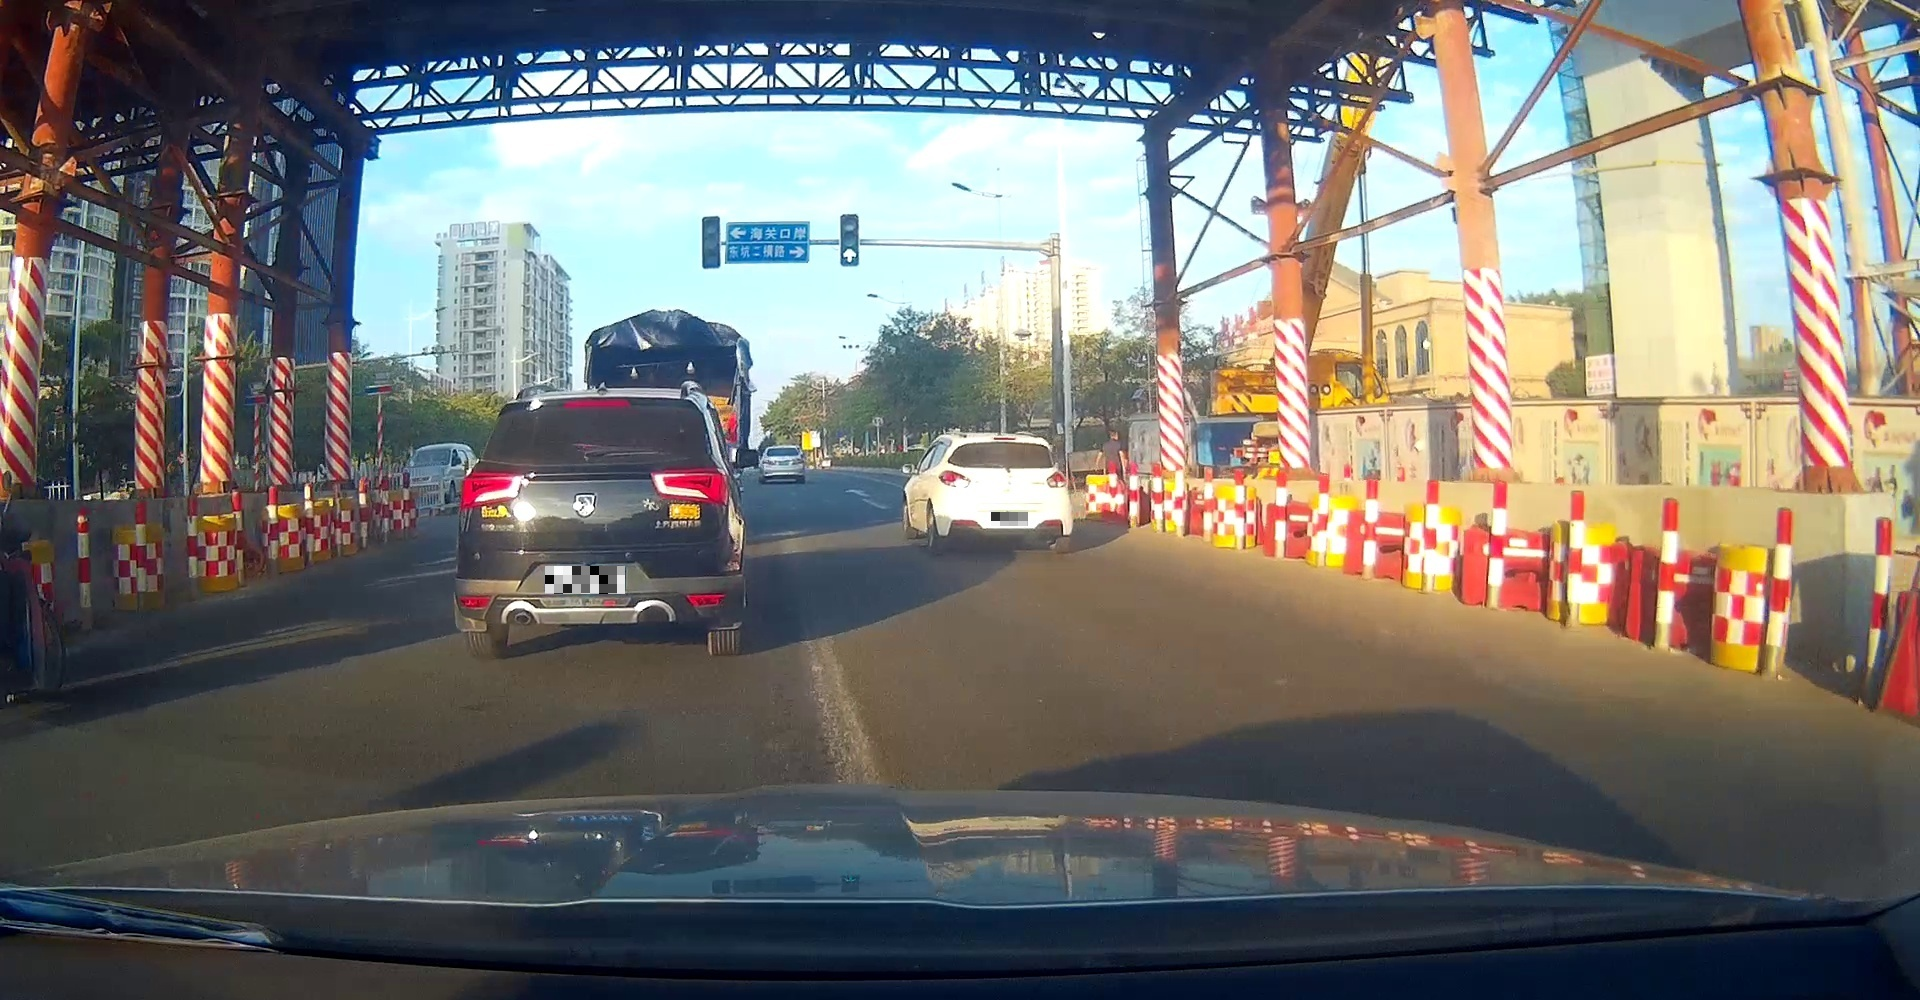L_light: (458, 472, 524, 510), (938, 470, 971, 489)
R_light: (651, 468, 729, 508), (1046, 471, 1068, 489)
T_light: (564, 398, 631, 406), (993, 437, 1016, 440)
day-brake: (455, 387, 743, 657), (938, 431, 1074, 553)
plate_1: (545, 566, 625, 594)
plate_2: (990, 511, 1029, 525)
